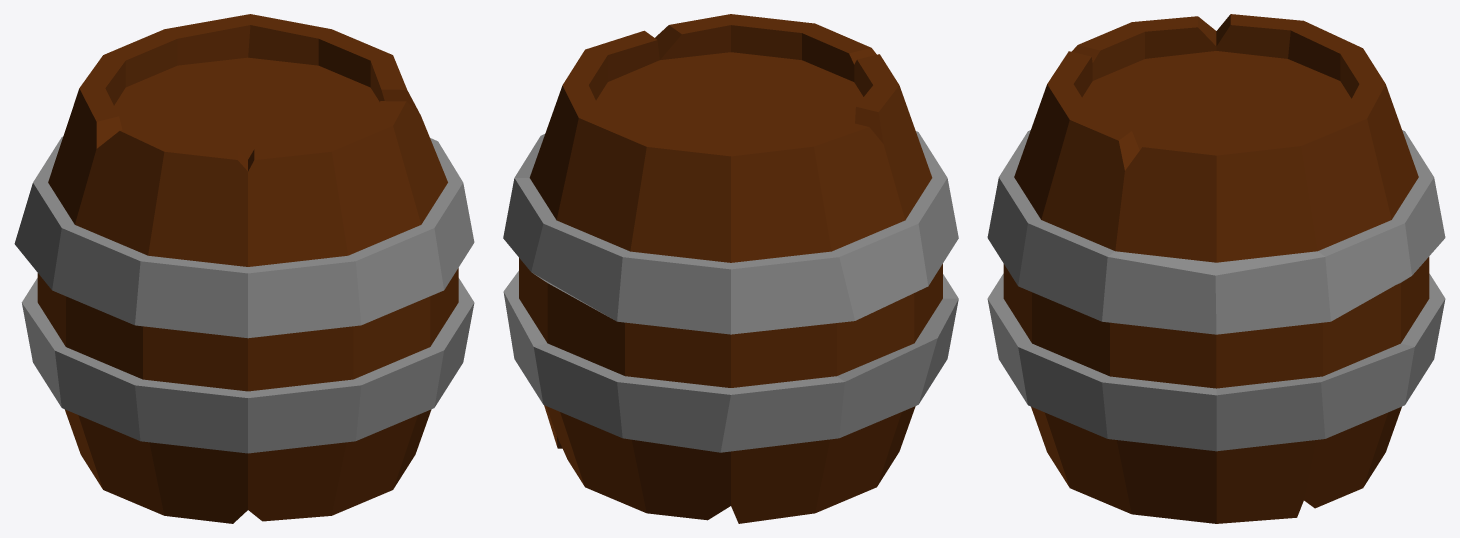
File: Barrel 1.fbx
3 views of the same model, side by side, from view 1: azimuth 30°, elevation 25°; view 2: azimuth 150°, elevation 25°; view 3: azimuth 270°, elevation 25° (orthographic).
Visible parts, largest first — view 1: Barrel; view 2: Barrel; view 3: Barrel.
Boxes of the visible parts, bbox=[...] form: Barrel: bbox=[14, 14, 474, 523]; Barrel: bbox=[503, 14, 958, 523]; Barrel: bbox=[987, 14, 1445, 523].
Size of the model in its own units: 136 by 122 by 135.
